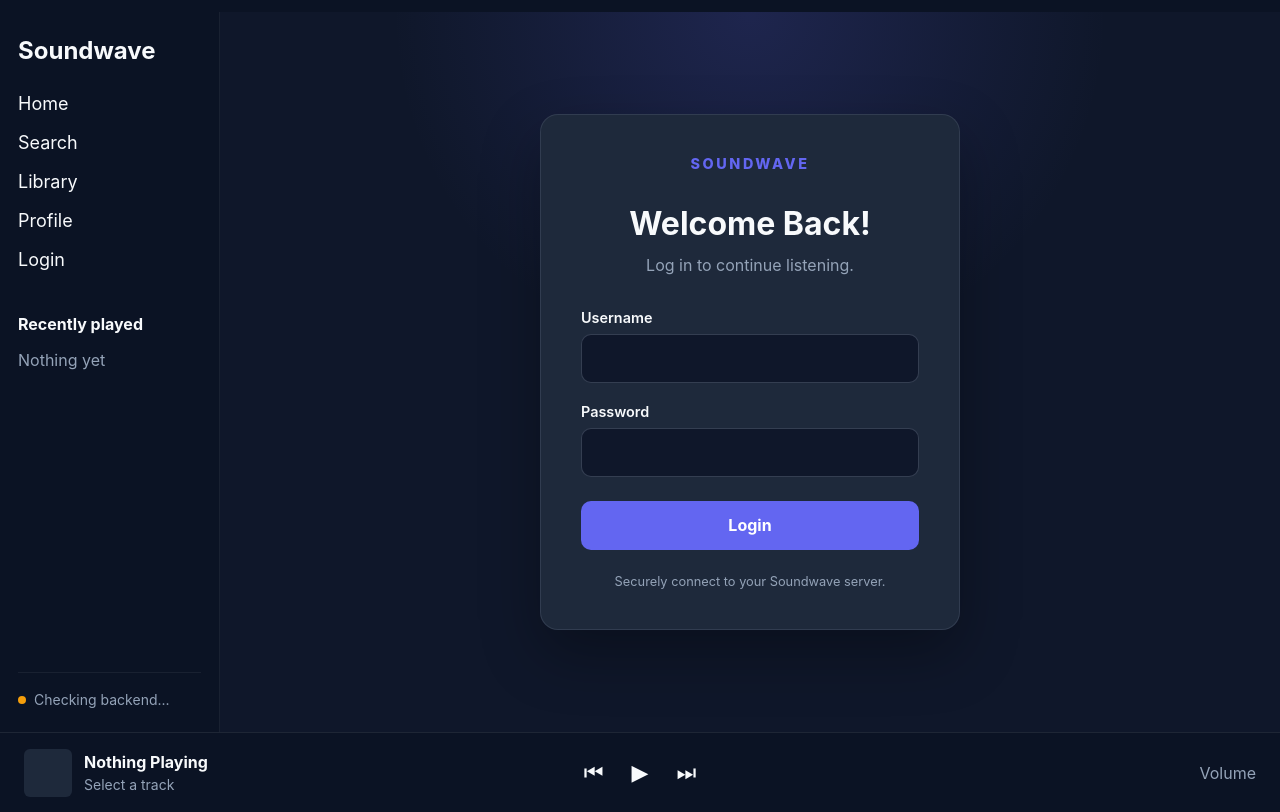
Scenario: SCRUM-206 App integration › verified regular user can log out without stale Login success card
Step 1. Type "test-user" into the field labelled "Username" → point(750, 358), box 581,334 -> 919,383
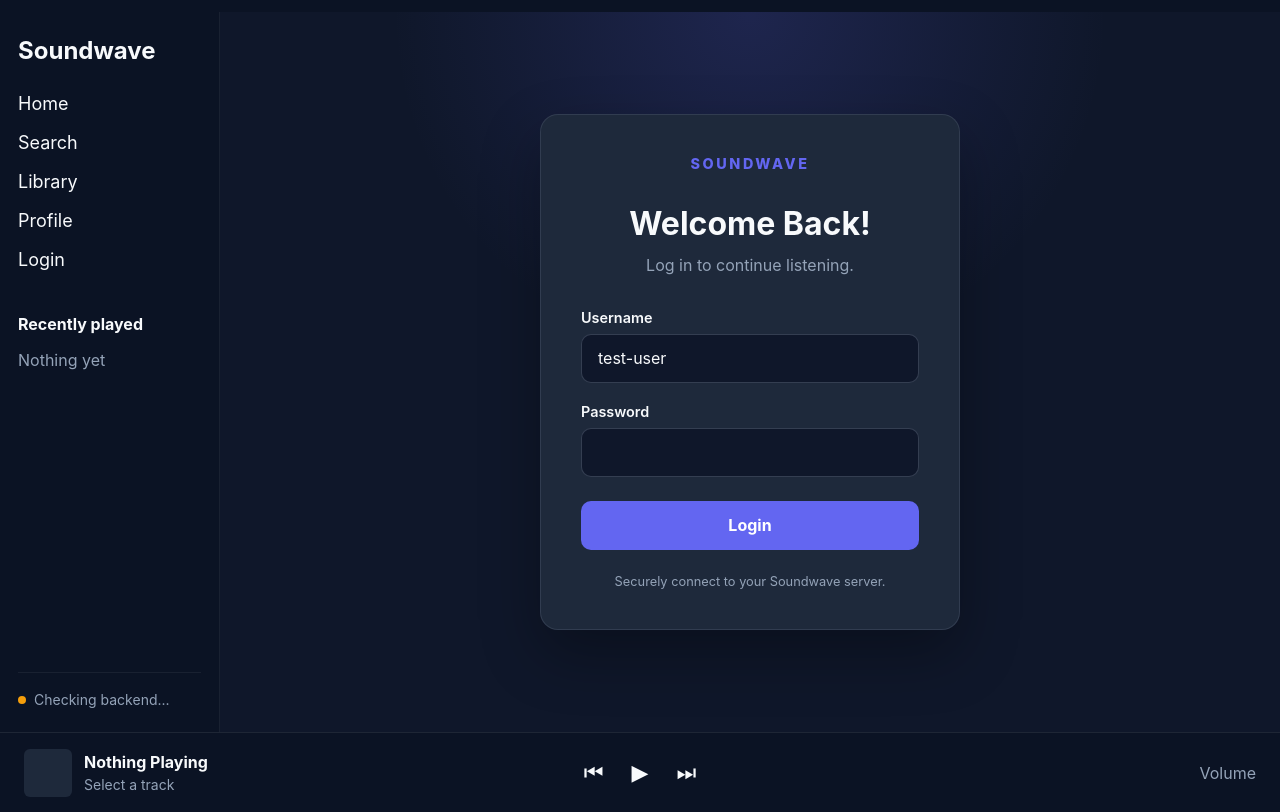
Step 2. Type "test-password" into the password field labelled "Password" → point(750, 452), box 581,428 -> 919,477
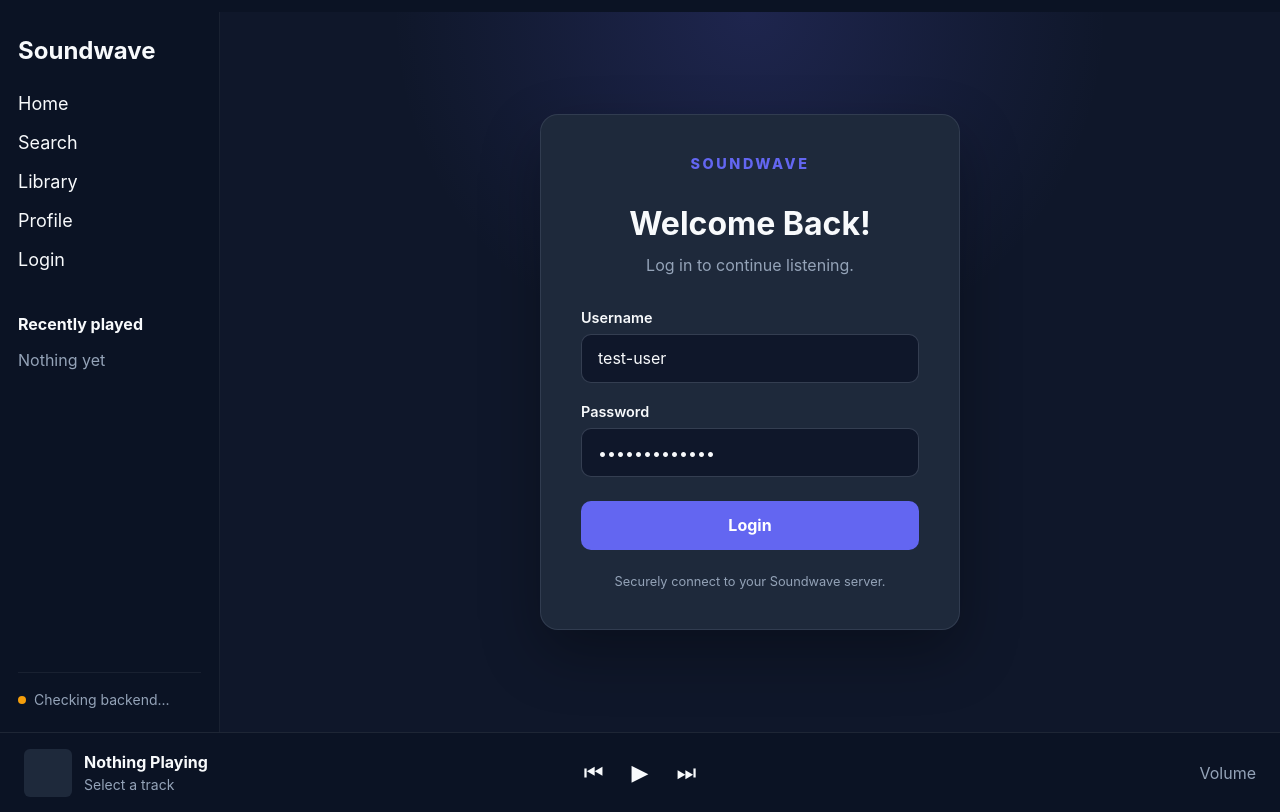
Step 3. Click the button "Login" → point(750, 526), box 581,501 -> 919,550
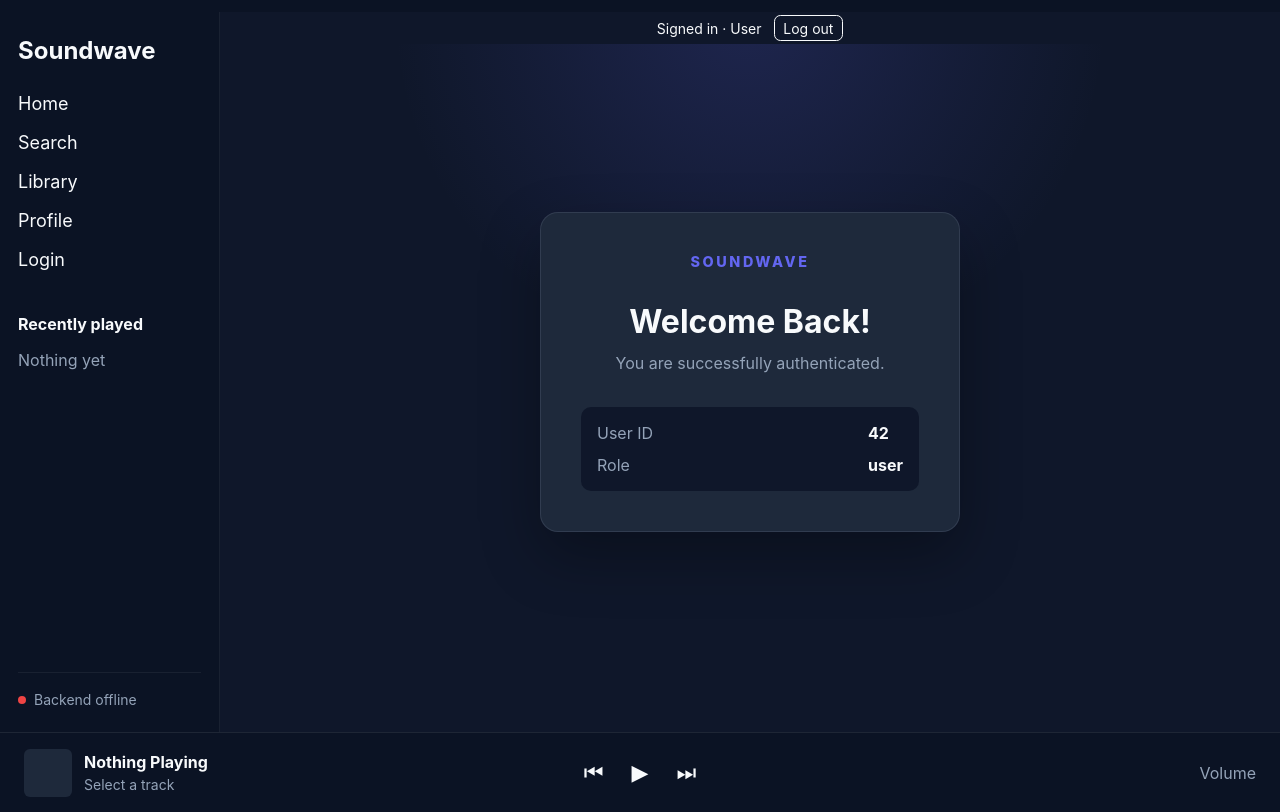
Expected: the text "You are successfully authenticated." is shown, 616,353 -> 884,373
Expected: the text "Signed in · User" is shown, 657,20 -> 762,36
Step 4. Click the button "Log out" → point(808, 28), box 774,15 -> 843,41
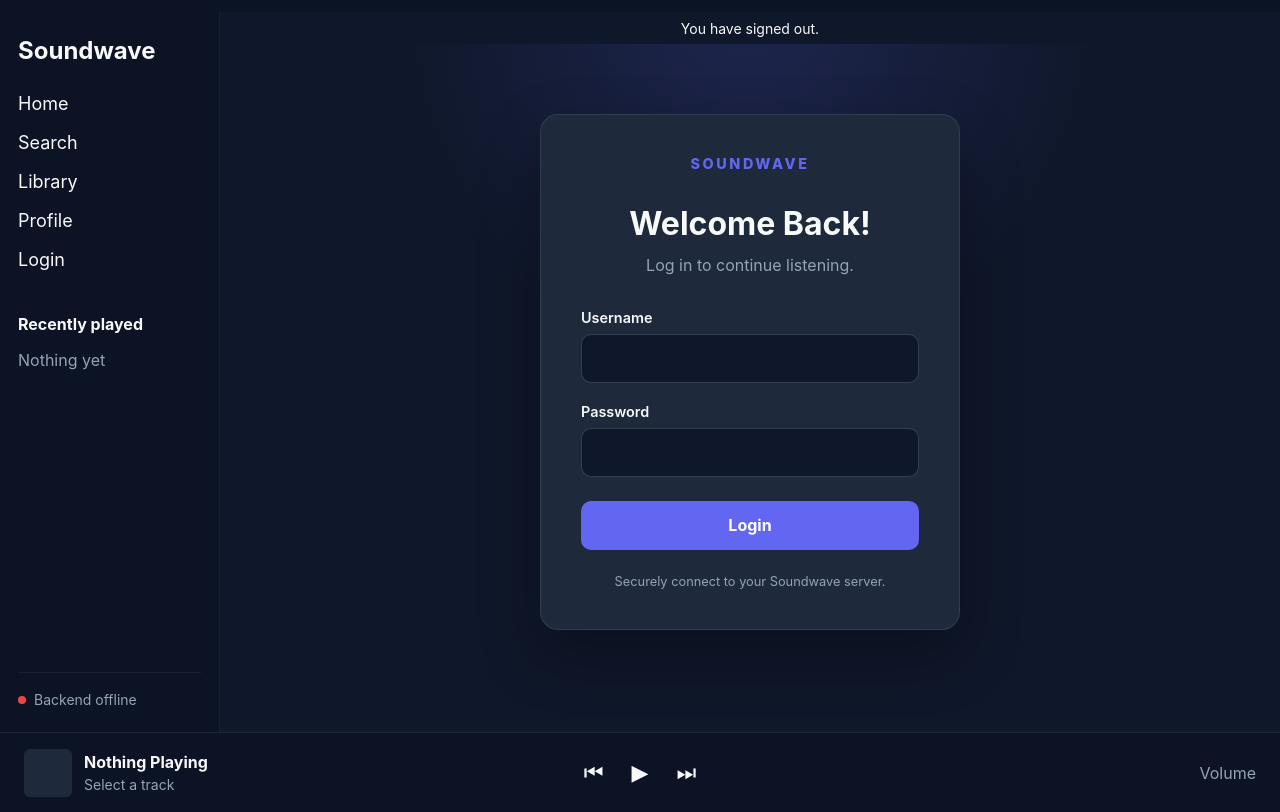
Expected: the text "You have signed out." is shown, 681,20 -> 819,36
Expected: the text "You are successfully authenticated." is gone
Expected: the button "Login" is shown, 581,501 -> 919,550
